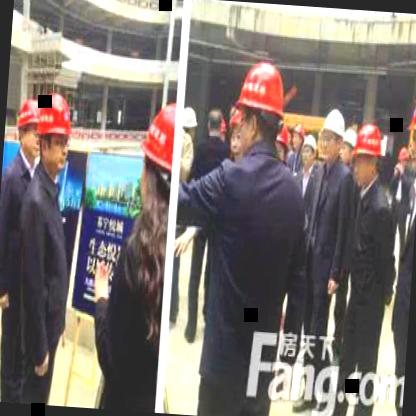head: (206, 100, 224, 138)
helmet: (136, 96, 190, 227), (228, 54, 286, 163), (34, 92, 75, 174), (350, 119, 386, 190), (320, 106, 348, 164), (16, 101, 43, 156), (402, 88, 416, 177), (298, 133, 320, 171), (182, 102, 199, 143), (292, 122, 305, 148)
